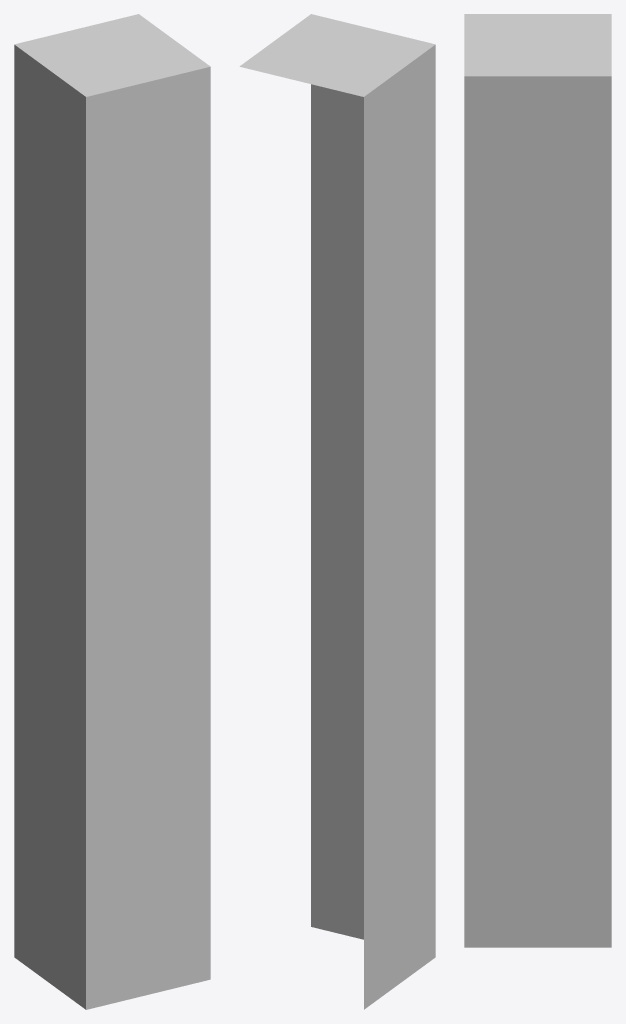
Rendered from M_WallT25White80.fbx.
3 renders of one model, left to right at view 1: azimuth 30°, elevation 25°; view 2: azimuth 150°, elevation 25°; view 3: azimuth 270°, elevation 25°, orthographic. The views are drawn at different scales.
Parts seen in each view (by area): view 1: M_WallT25White80; view 2: M_WallT25White80; view 3: M_WallT25White80.
Boxes of the visible parts, <box> form: M_WallT25White80: <box>14,14,210,1009</box>; M_WallT25White80: <box>239,14,435,1009</box>; M_WallT25White80: <box>464,14,611,947</box>.
Bounding box in the file's own units: 50 × 50 × 350.
